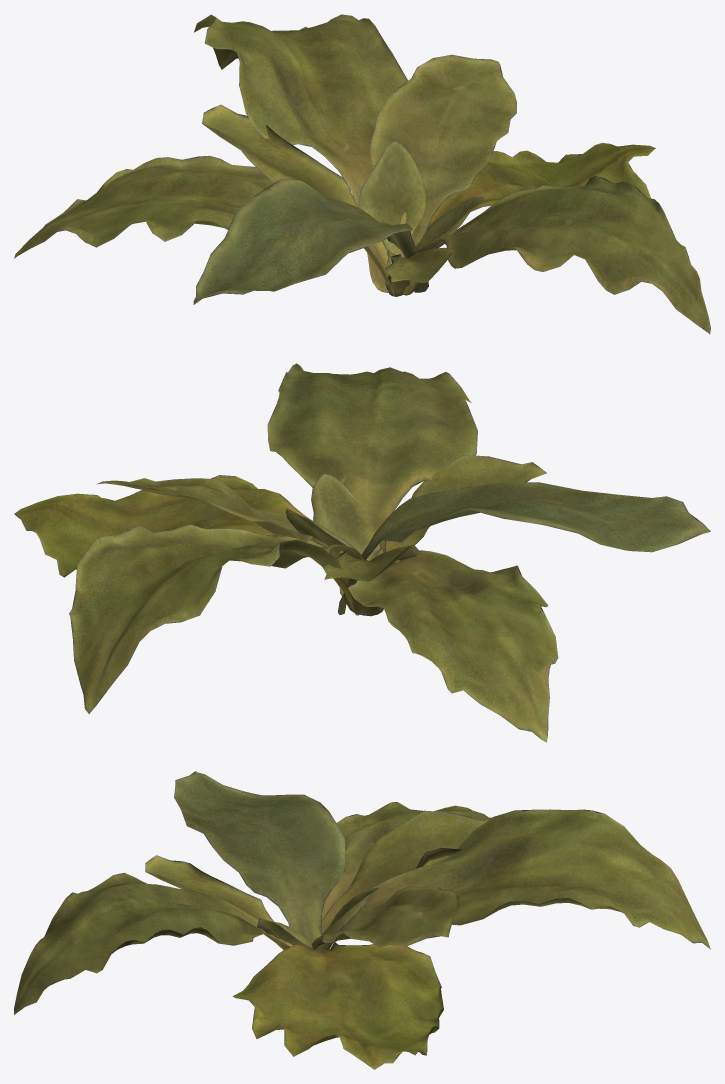
Rendered from crystalline_iceplant_g.gltf.
3 views of the same model, one above another, from view 1: azimuth 30°, elevation 25°; view 2: azimuth 150°, elevation 25°; view 3: azimuth 270°, elevation 25° (orthographic). The views are drawn at different scales.
Visible parts, largest first — view 1: crystalline_iceplant_a_LOD0; view 2: crystalline_iceplant_a_LOD0; view 3: crystalline_iceplant_a_LOD0.
Part boxes in pixels (left/top/right/bottom): crystalline_iceplant_a_LOD0: left=14, top=14, right=710, bottom=334; crystalline_iceplant_a_LOD0: left=14, top=363, right=710, bottom=742; crystalline_iceplant_a_LOD0: left=14, top=771, right=710, bottom=1069.
Bounding box in the file's own units: 0.2762 × 0.081 × 0.3155.
Materials: 1 (1 with a texture image).
